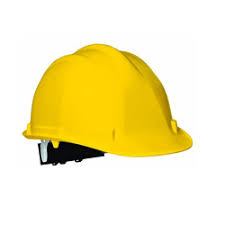helmet: (15, 30, 196, 163)
